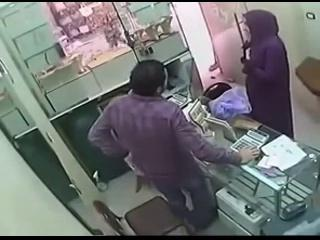Normal: (87, 59, 260, 232), (239, 9, 294, 139)
